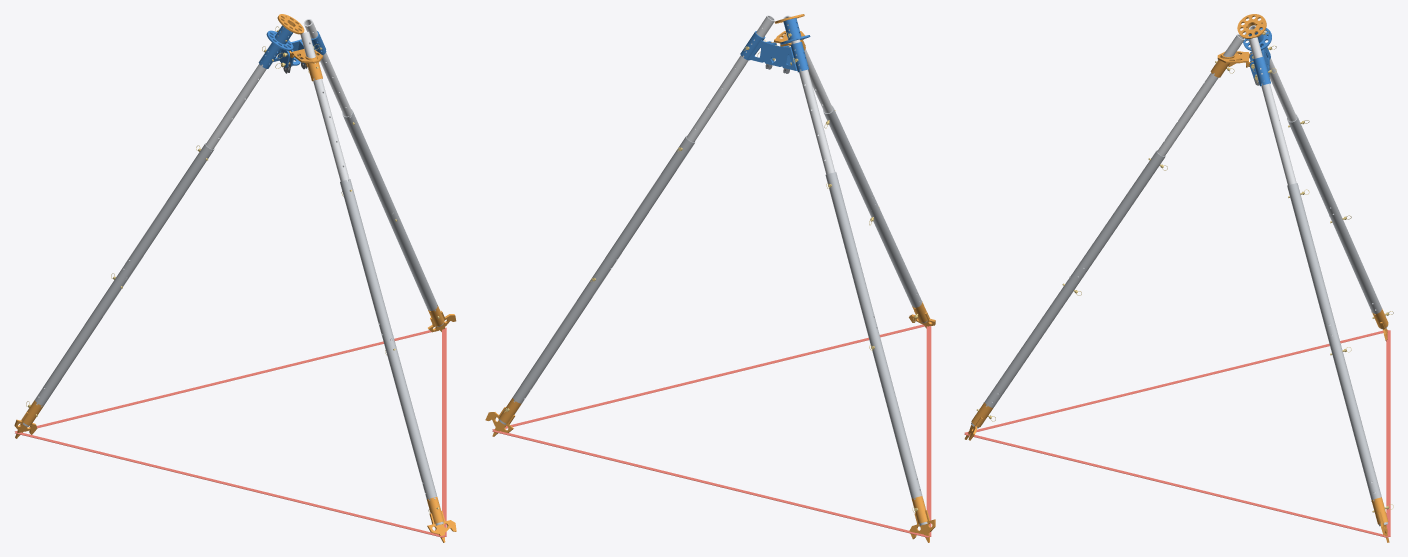
File: tripode_v8_tubo_arriba.glb
3 views of the same model, side by side, from view 1: azimuth 30°, elevation 25°; view 2: azimuth 150°, elevation 25°; view 3: azimuth 270°, elevation 25° (orthographic). The views are drawn at different scales.
Parts seen in each view (by area): view 1: n39_10G2, n38_10G1, n23_10I2, n22_10I1, n50_M3, n37_13G1, n30_10D1, n31_10D2, n48_M1, n21_13I1, n49_M2, n29_13D1 (+1 smaller); view 2: n23_10I2, n22_10I1, n31_10D2, n30_10D1, n48_M1, n49_M2, n38_10G1, n39_10G2, n29_13D1, n50_M3, n21_13I1, n00_01 (+3 smaller); view 3: n31_10D2, n30_10D1, n39_10G2, n38_10G1, n49_M2, n50_M3, n29_13D1, n22_10I1, n23_10I2, n37_13G1, n48_M1, n21_13I1 (+1 smaller).
Boxes of the visible parts, box(x1,y1,x2,y2) form: n39_10G2: box(383, 338, 443, 525); n38_10G1: box(340, 179, 393, 340); n23_10I2: box(23, 272, 128, 426); n22_10I1: box(120, 143, 214, 279); n50_M3: box(15, 432, 444, 537); n37_13G1: box(300, 31, 349, 181); n30_10D1: box(342, 109, 395, 214); n31_10D2: box(385, 208, 443, 326); n48_M1: box(15, 330, 431, 432); n21_13I1: box(205, 51, 277, 150); n49_M2: box(442, 327, 446, 536); n29_13D1: box(303, 19, 352, 116); n23_10I2: box(868, 334, 927, 525); n22_10I1: box(825, 172, 879, 336); n31_10D2: box(499, 267, 608, 424); n30_10D1: box(599, 136, 695, 273); n48_M1: box(492, 429, 928, 537); n49_M2: box(492, 324, 925, 430); n38_10G1: box(823, 105, 877, 210); n39_10G2: box(868, 205, 927, 323); n29_13D1: box(686, 15, 774, 142); n50_M3: box(926, 326, 931, 536); n21_13I1: box(788, 24, 835, 174); n00_01: box(748, 40, 797, 70); n31_10D2: box(1329, 340, 1387, 526); n30_10D1: box(1287, 183, 1339, 344); n39_10G2: box(971, 277, 1079, 428); n38_10G1: box(1069, 150, 1165, 282); n49_M2: box(964, 433, 1388, 537); n50_M3: box(964, 330, 1389, 434); n29_13D1: box(1248, 37, 1296, 185); n22_10I1: box(1287, 114, 1339, 217); n23_10I2: box(1330, 212, 1388, 329); n37_13G1: box(1157, 34, 1244, 156); n48_M1: box(1386, 330, 1390, 536); n21_13I1: box(1249, 25, 1296, 121).
Bounding box in the file's own units: 2786 × 2549 × 2378.
